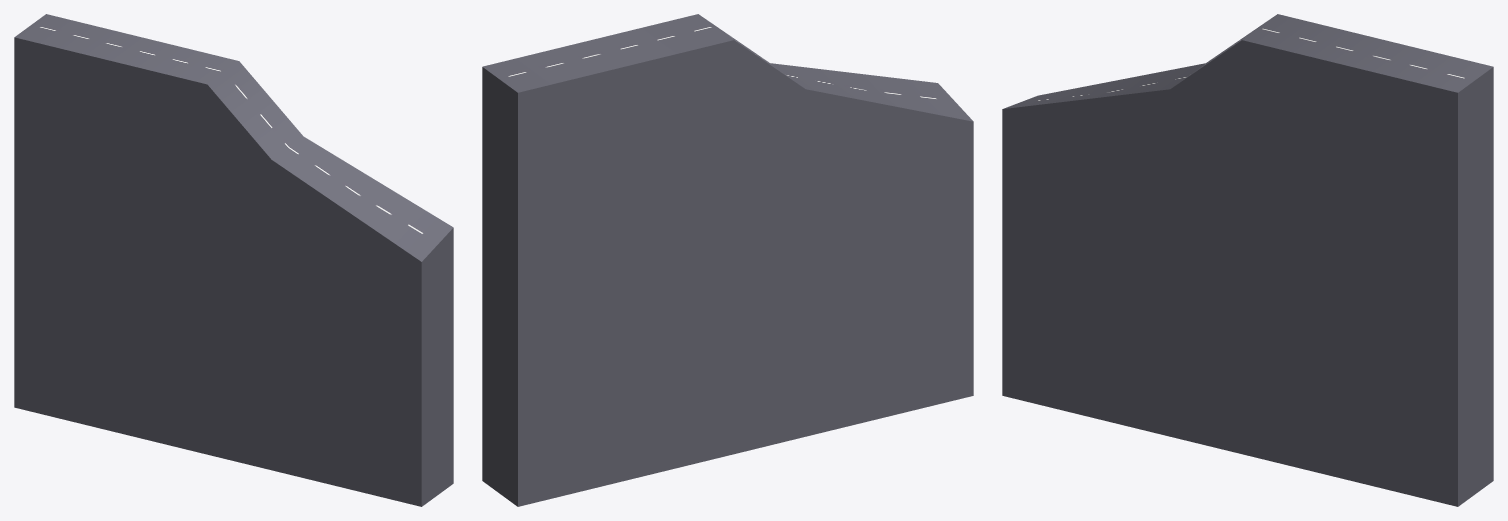
Rendered from road_14.gltf.
3 renders of one model, left to right at view 1: azimuth 90°, elevation 25°; view 2: azimuth 150°, elevation 25°; view 3: azimuth 270°, elevation 25°, orthographic. The views are drawn at different scales.
Parts seen in each view (by area): view 1: road; view 2: road; view 3: road.
Boxes of the visible parts, bbox=[...] form: road: bbox=[14, 14, 453, 506]; road: bbox=[482, 14, 973, 506]; road: bbox=[1002, 14, 1493, 506].
Bounding box in the file's own units: 6.59 × 9.27 × 9.97.
Materials: 1 (1 with a texture image).
